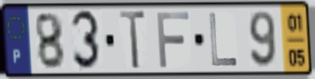3: (69, 8, 104, 73)
8: (34, 10, 67, 71)
9: (248, 9, 278, 70)
F: (155, 10, 192, 70)
L: (207, 12, 240, 68)
T: (118, 9, 148, 72)
